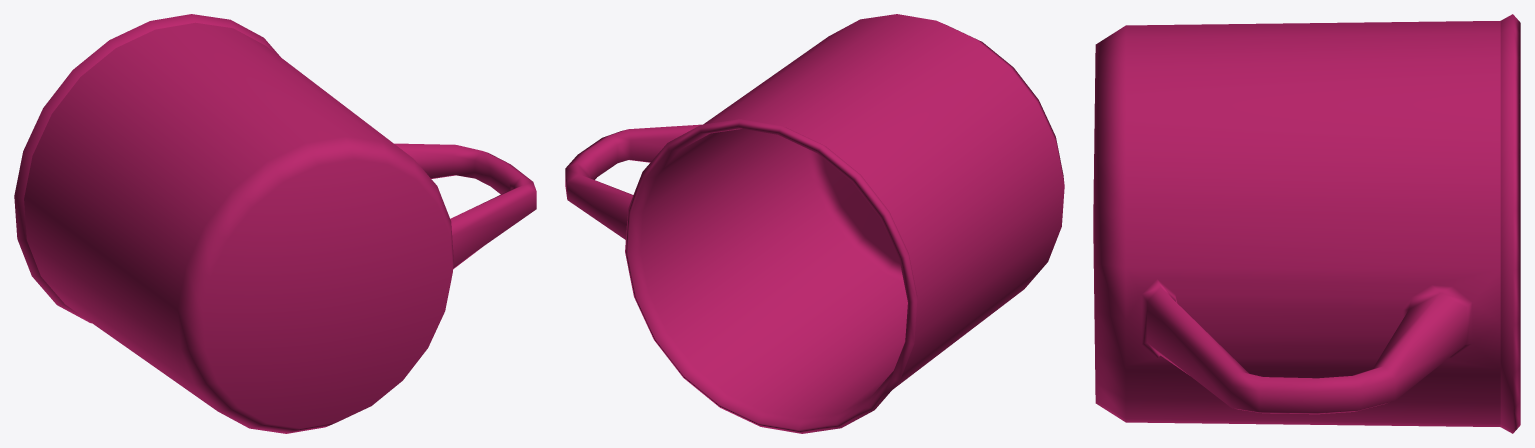
Rendered from SM_Dishes_15.fbx.
The picture shows the model from 3 angles, left to right: view 1: azimuth 30°, elevation 25°; view 2: azimuth 150°, elevation 25°; view 3: azimuth 270°, elevation 25°; orthographic projection. The views are drawn at different scales.
Visible parts, largest first — view 1: SM_Dishes_15; view 2: SM_Dishes_15; view 3: SM_Dishes_15.
Part boxes in pixels (x1,y1,x2,y2): SM_Dishes_15: (14, 14, 536, 433); SM_Dishes_15: (565, 14, 1064, 433); SM_Dishes_15: (1093, 14, 1520, 433).
Size of the model in its own units: 16.9 by 11.81 by 12.02.
